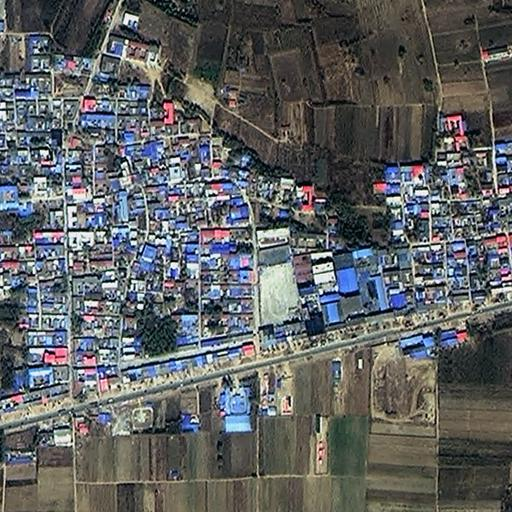school: (258, 226, 298, 327)
